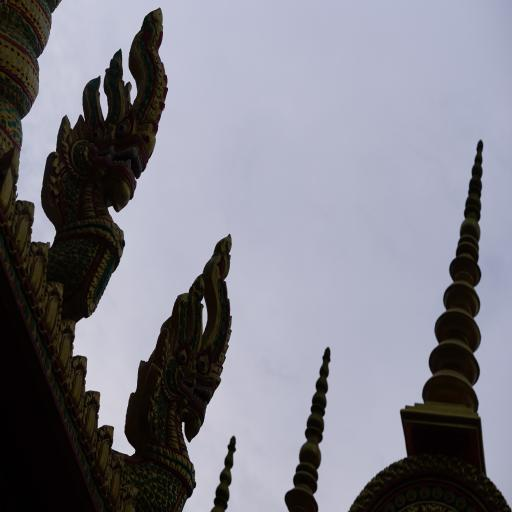ran: (28, 0, 175, 358), (124, 201, 263, 512)
